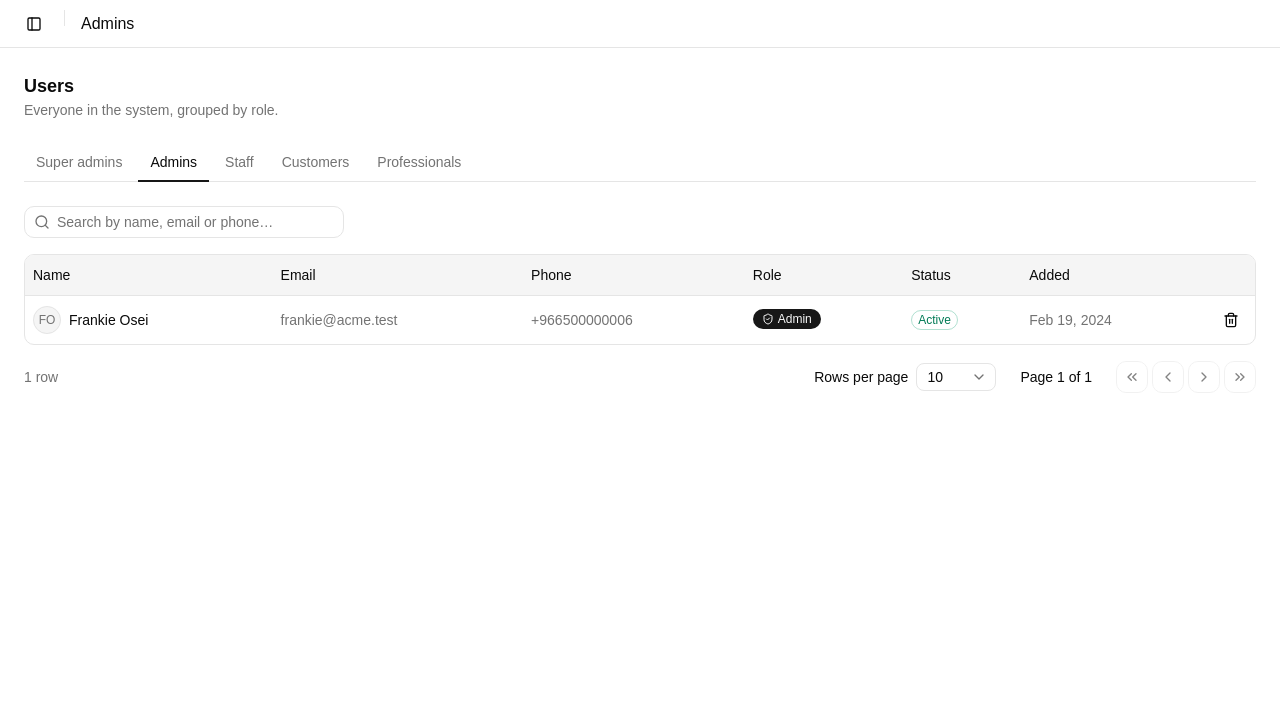
Test: row detail modal › hides the Address section when the account has none
The image size is (1280, 720).
Click the text "Frankie Osei": [109, 320] box [69,310,148,330]
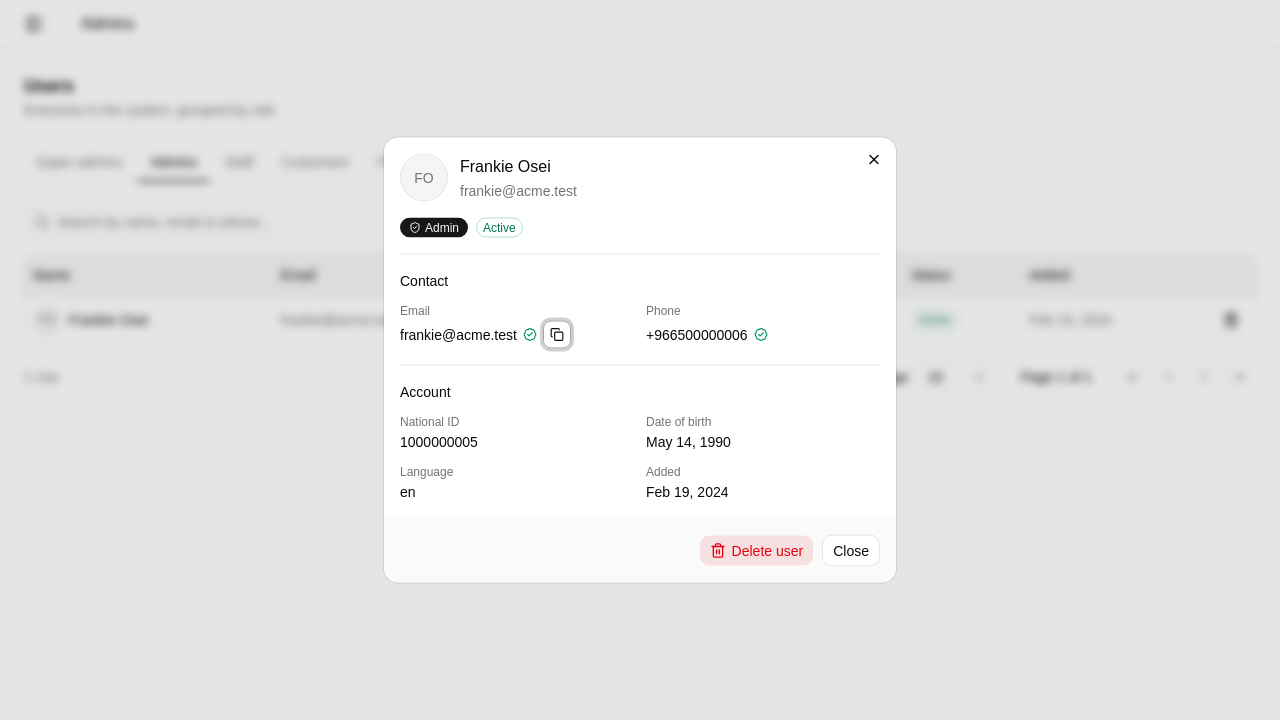
Result: the heading "Frankie Osei" is shown at [460,158,551,174]
